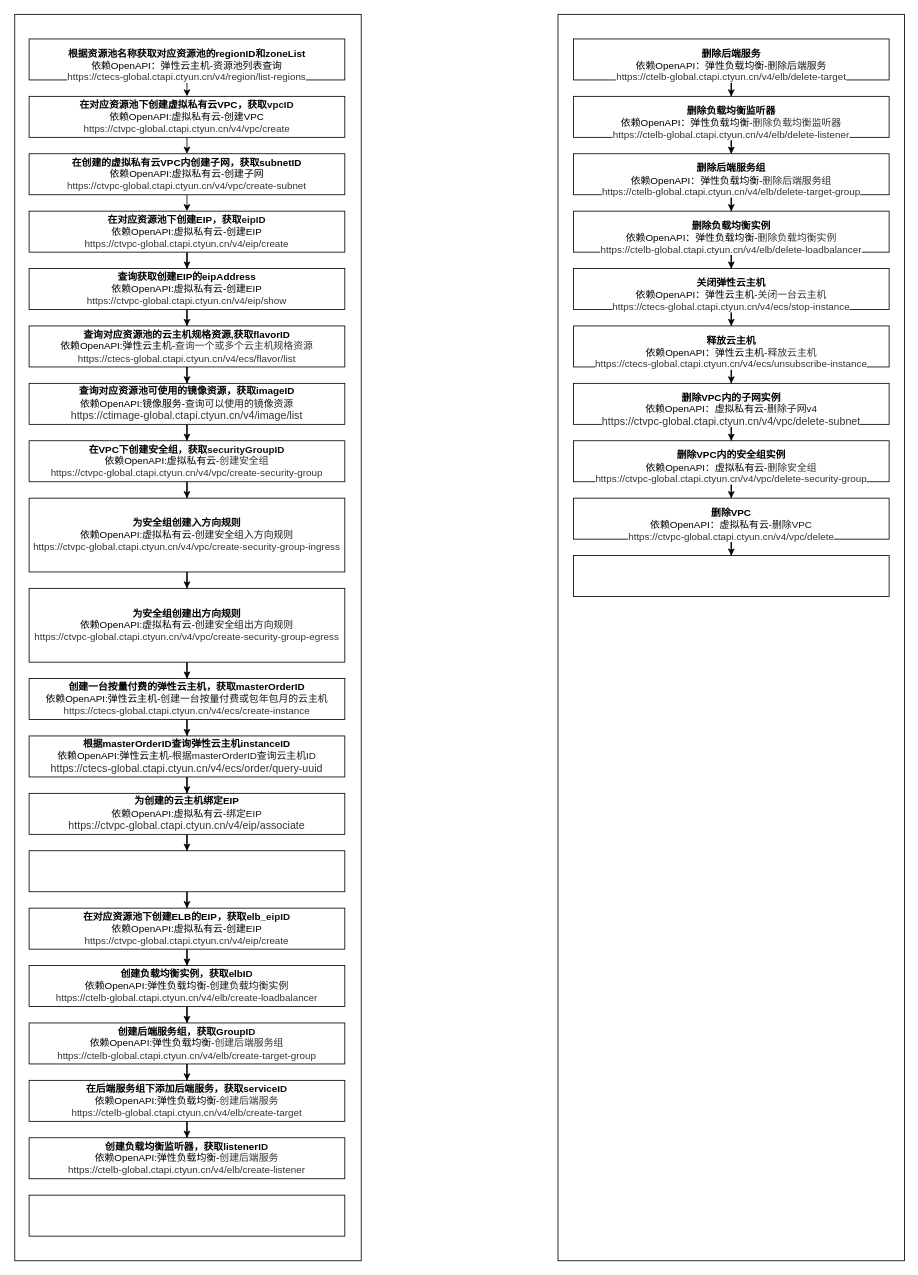
Some shapes in this 918 by 1275 pixel diagram are drawn without their labels. Here are the shapes that lost their labels. From the top down, the centre of each, then its label:
(x=731, y=576): 删除EIP 依赖OpenAPI：虚拟私有云- 删除EIP https://ctvpc-global.ctapi.ctyun.cn /v4/eip/delete
(x=186, y=871): 远程登陆云服务器部署源站服务 依赖脚本sshclient.py
(x=186, y=1215): 在ELB监听器对象侧，打开WAF防护开关 依赖接口？？
